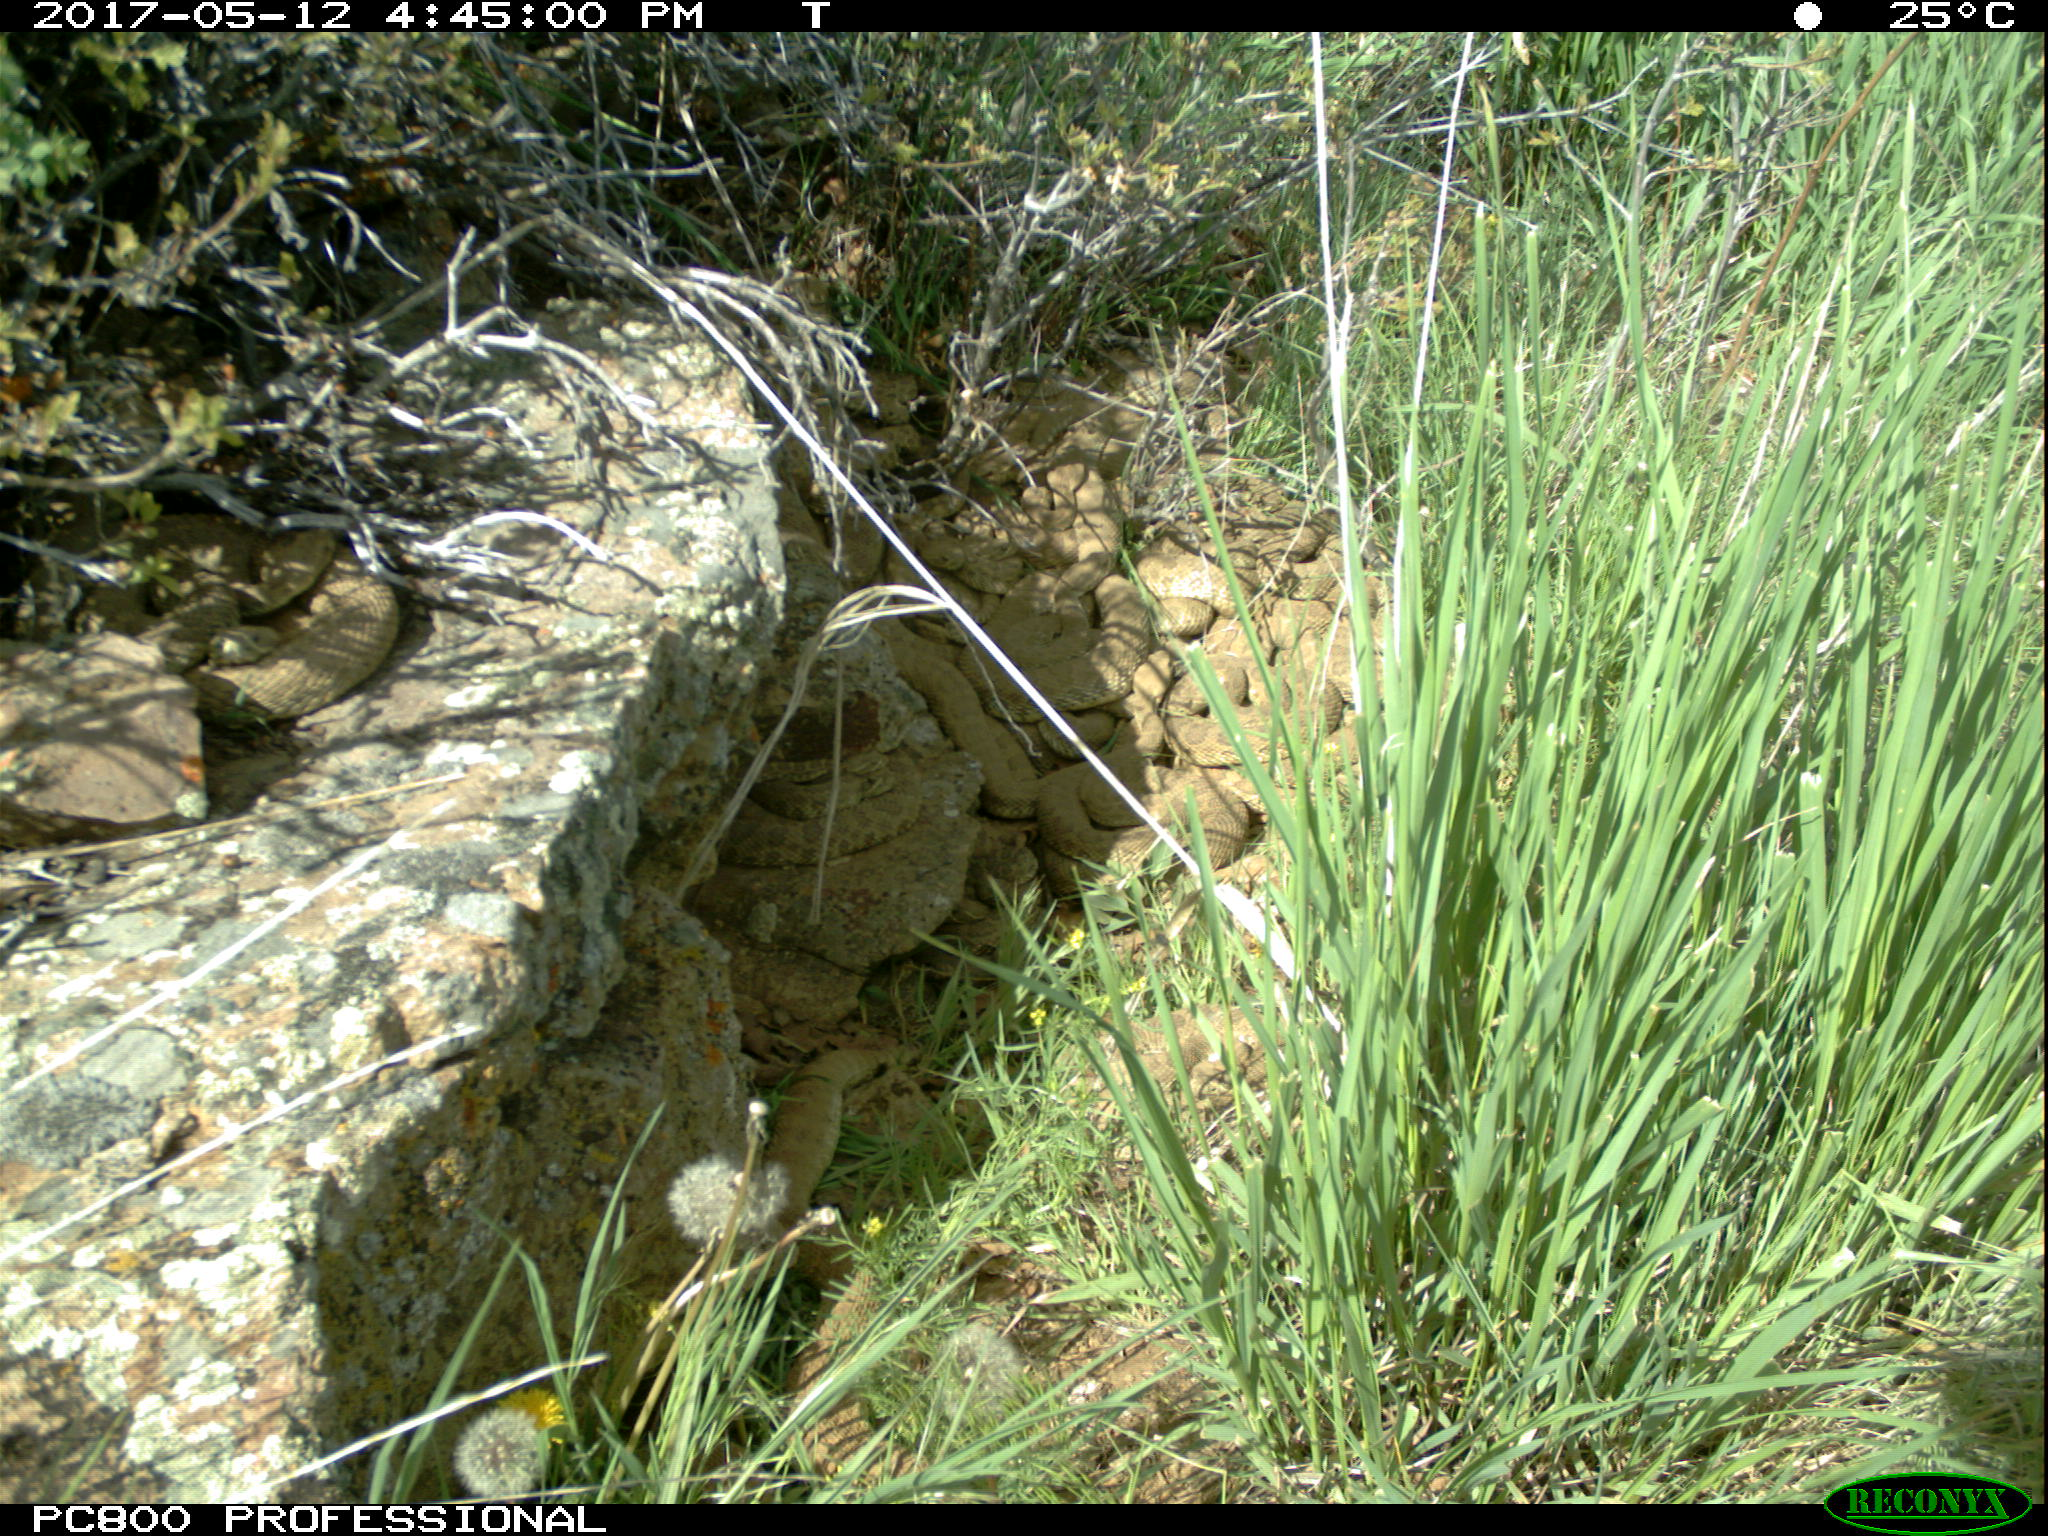snake: (898, 461, 1142, 718), (1021, 682, 1263, 905), (1148, 539, 1387, 753), (144, 520, 393, 707), (898, 641, 1069, 816), (800, 1249, 921, 1492), (764, 1049, 918, 1233), (727, 745, 969, 852), (1087, 994, 1287, 1112)
